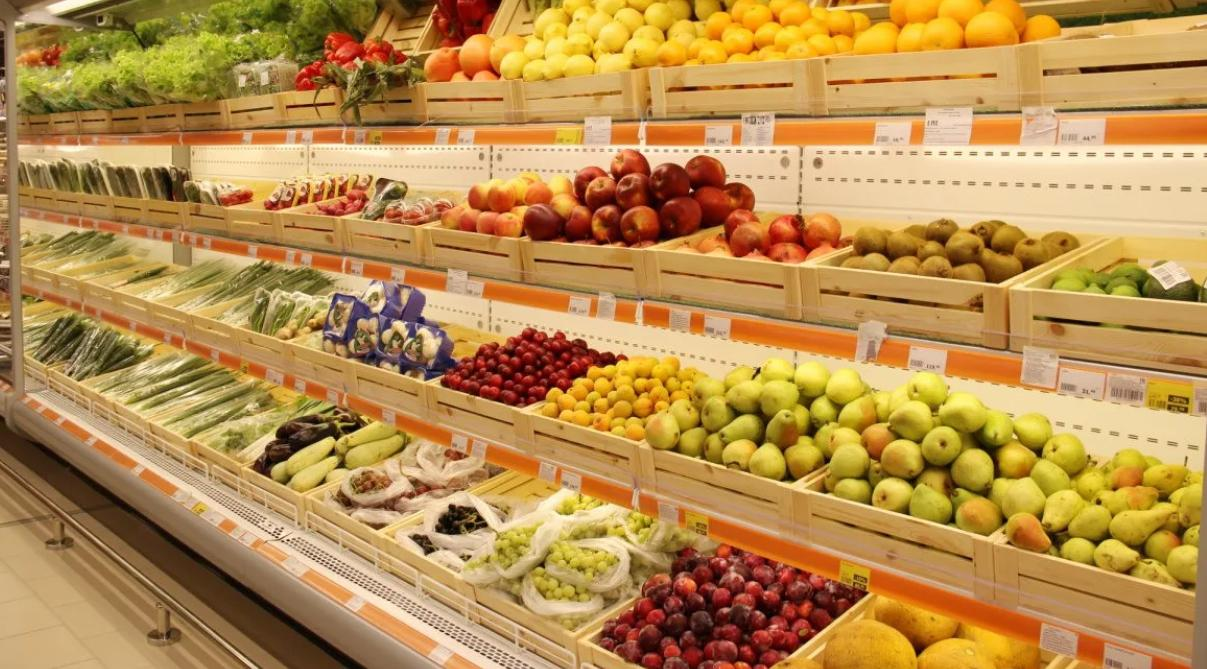eggplant: (250, 405, 366, 480)
grapes: (485, 481, 699, 625), (388, 488, 526, 602), (328, 451, 488, 541)
lemon: (502, 0, 684, 102)
mandarin: (660, 0, 858, 94)
melon: (805, 593, 1046, 669)
orange: (846, 0, 1080, 97)
pear: (812, 369, 1066, 552), (1006, 425, 1207, 588), (646, 363, 888, 482)
pomegranate: (668, 193, 869, 282)
red apple: (522, 145, 758, 258), (425, 156, 582, 249)
sweet pepper: (292, 23, 420, 100)
